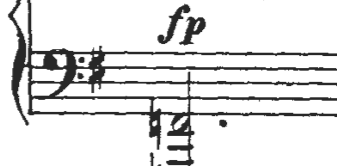bass_clef: (39, 40, 87, 108)
sharp: (85, 43, 110, 96)
